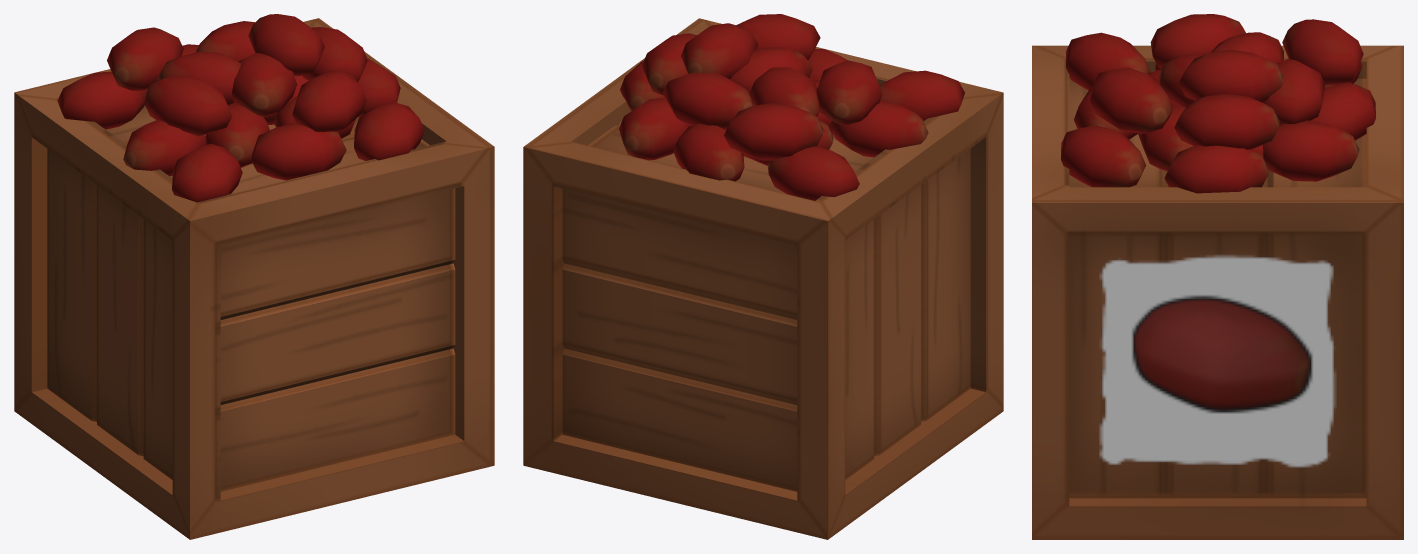
File: caixa café (1).fbx
The picture shows the model from 3 angles, left to right: view 1: azimuth 30°, elevation 25°; view 2: azimuth 150°, elevation 25°; view 3: azimuth 270°, elevation 25°; orthographic projection. The views are drawn at different scales.
Visible parts, largest first — view 1: Caixas.003; view 2: Caixas.003; view 3: Caixas.003.
Part boxes in pixels (x1,y1,x2,y2): Caixas.003: (14, 14, 494, 539); Caixas.003: (523, 14, 1003, 539); Caixas.003: (1032, 14, 1403, 539).
Bounding box in the file's own units: 200 × 254 × 200.
Materials: 2 (2 with a texture image).
